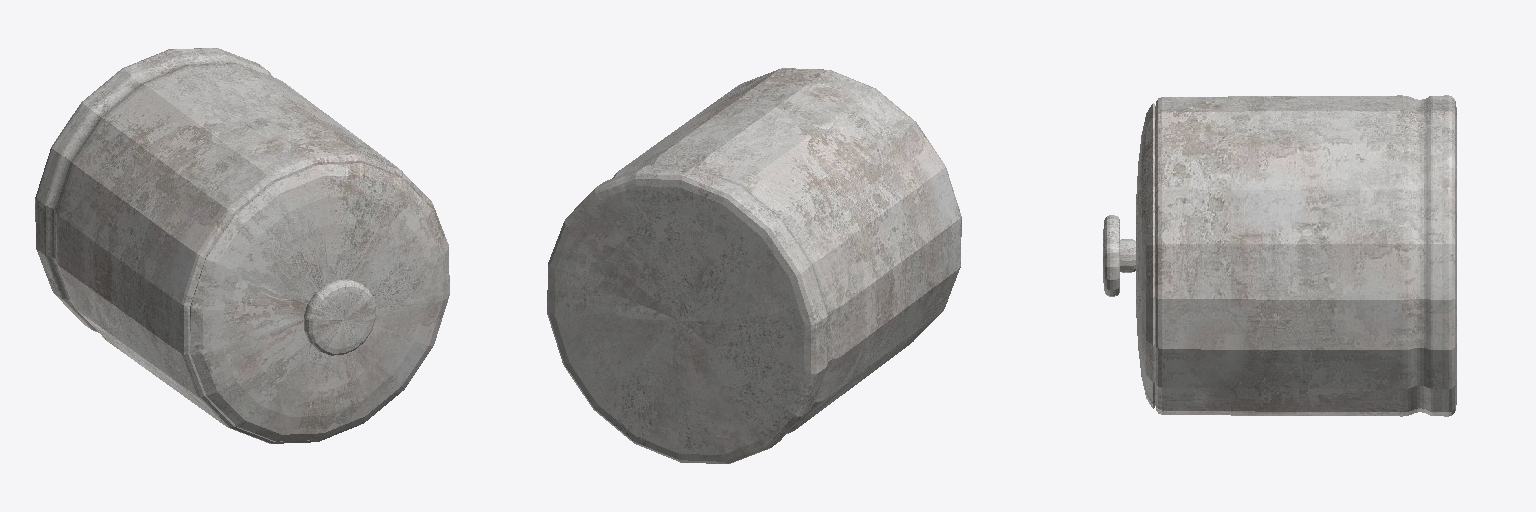
The picture shows the model from 3 angles: view 1: azimuth 30°, elevation 25°; view 2: azimuth 150°, elevation 25°; view 3: azimuth 270°, elevation 25°; orthographic projection.
Bounding box in the file's own units: 1.91 × 1.96 × 2.16.
Materials: 1 (1 with a texture image).